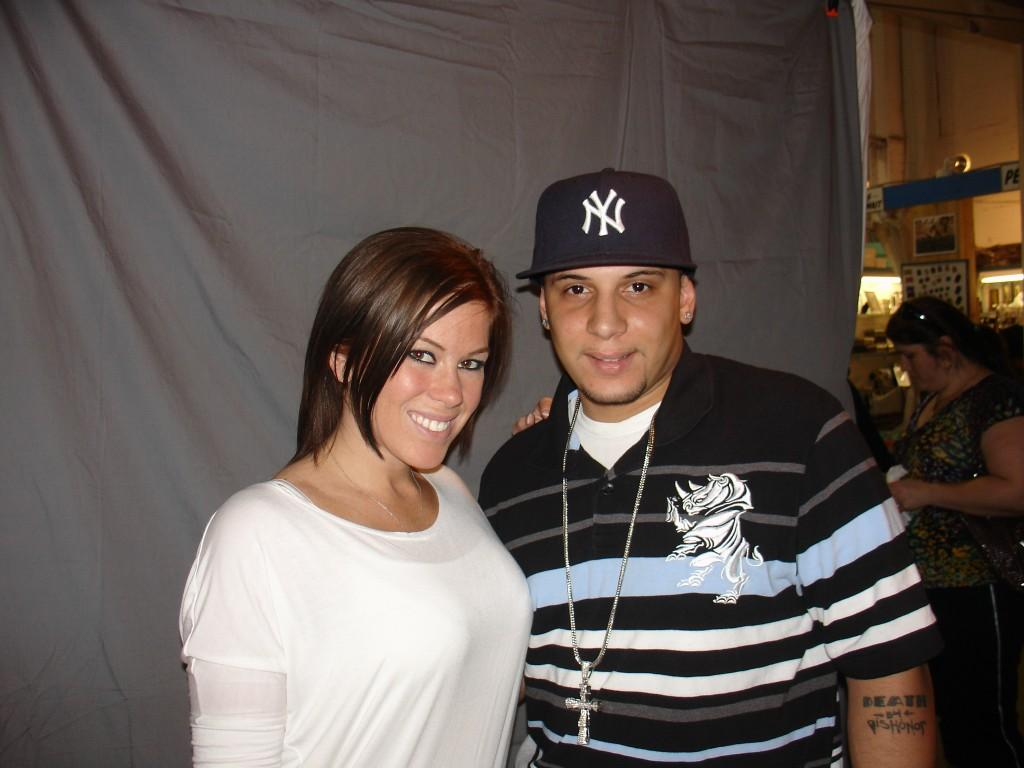face: (548, 242, 676, 406), (376, 294, 484, 470)
